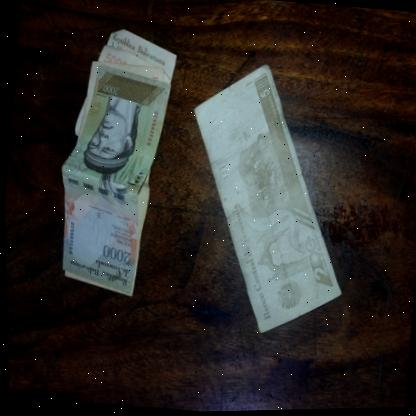five-back-vef: (169, 55, 364, 343)
